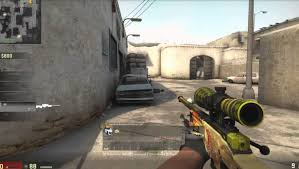gun: (177, 84, 270, 158)
